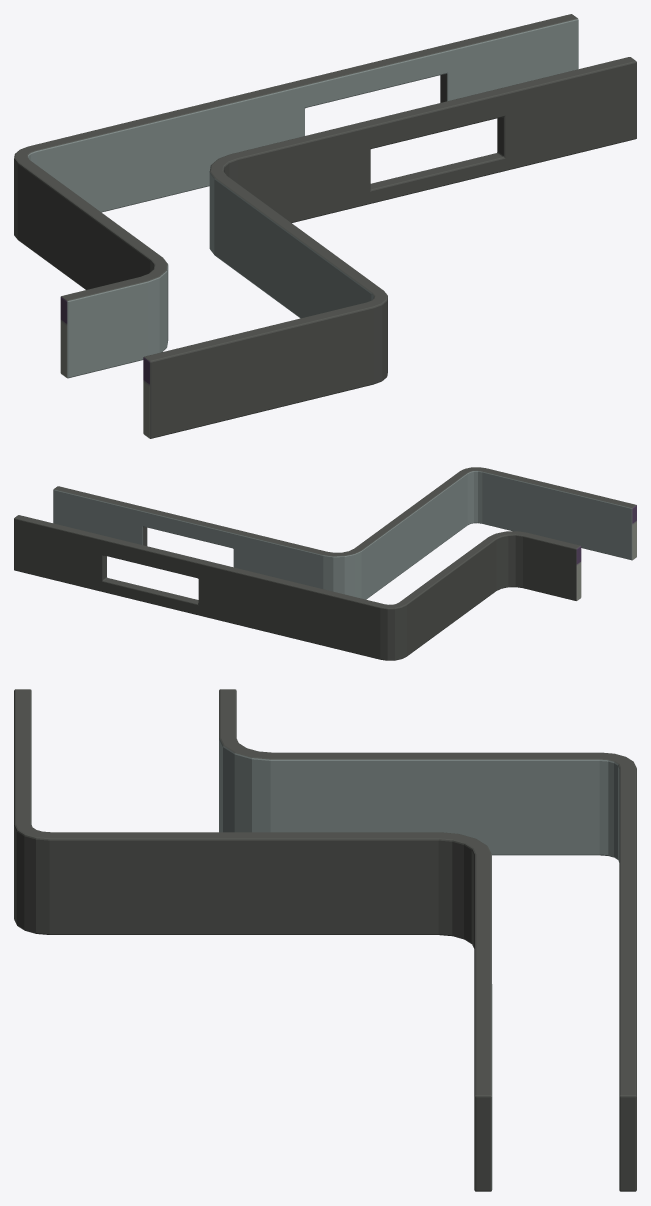
The model's file is specimenroom_left_tunnel.fbx.
3 renders of one model, top to bottom at view 1: azimuth 30°, elevation 25°; view 2: azimuth 150°, elevation 25°; view 3: azimuth 270°, elevation 25°, orthographic. The views are drawn at different scales.
Parts seen in each view (by area): view 1: SpecimenRoomTunnel; view 2: SpecimenRoomTunnel; view 3: SpecimenRoomTunnel.
Part boxes in pixels (x1,y1,x2,y2): SpecimenRoomTunnel: (14, 14, 636, 438); SpecimenRoomTunnel: (14, 467, 636, 660); SpecimenRoomTunnel: (14, 689, 636, 1191).
Size of the model in its own units: 2706 by 300 by 1750.
